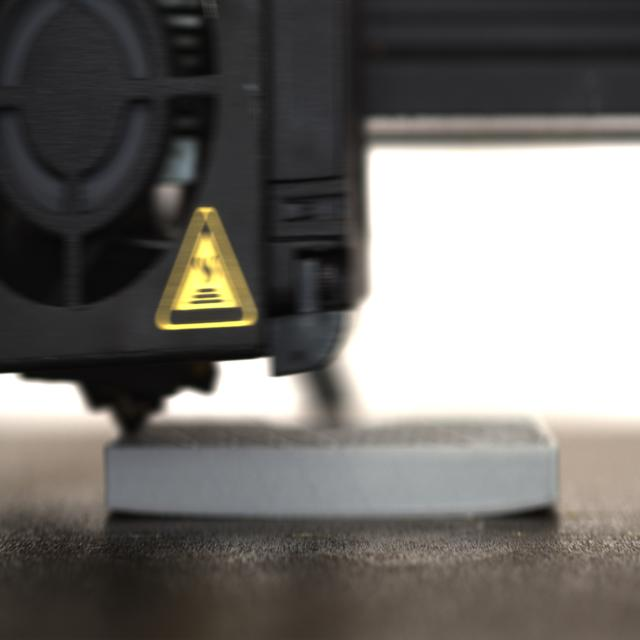Warping: (482, 492, 561, 527)
